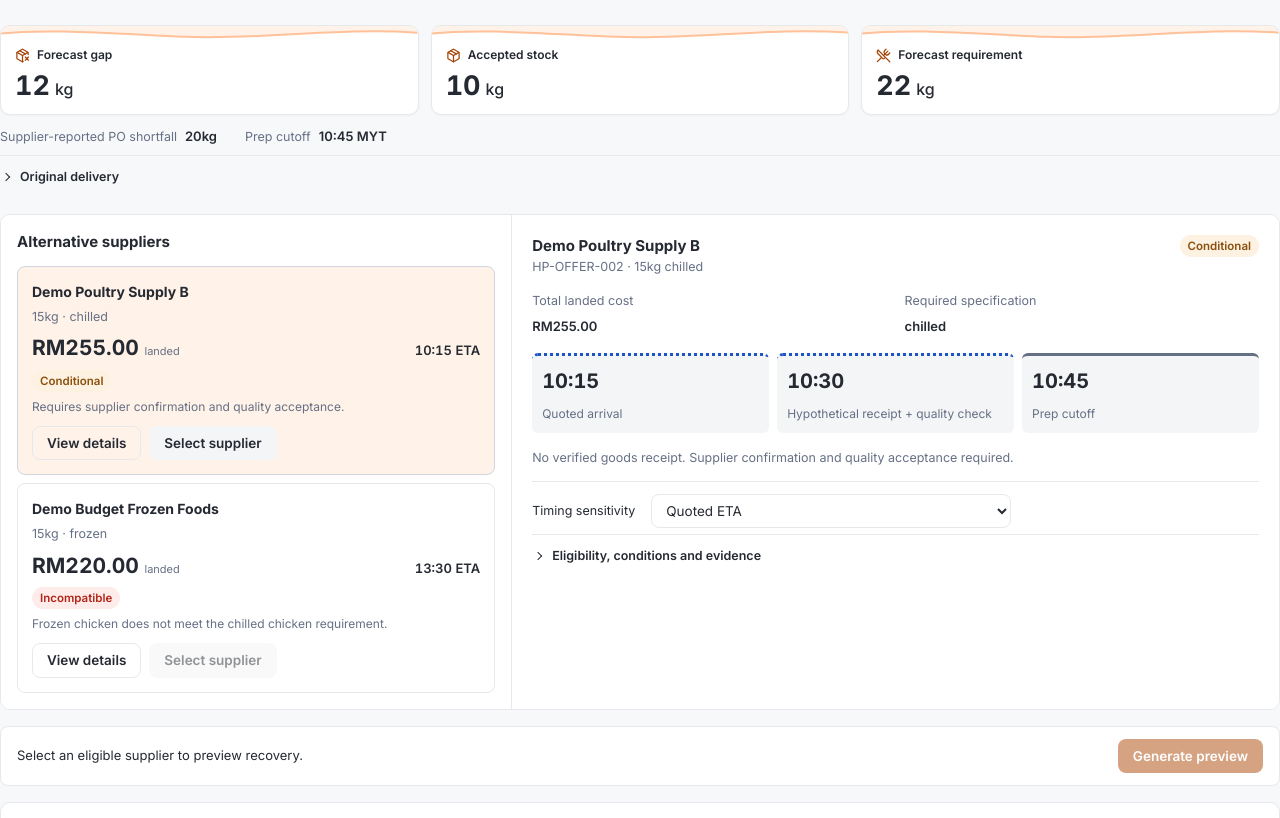
Scenario: generates the canonical conditional preview with exact costs and portion labels
Click the button with aria-label "Select HP-OFFER-002". click: [213, 443]
box: [149,426,277,460]
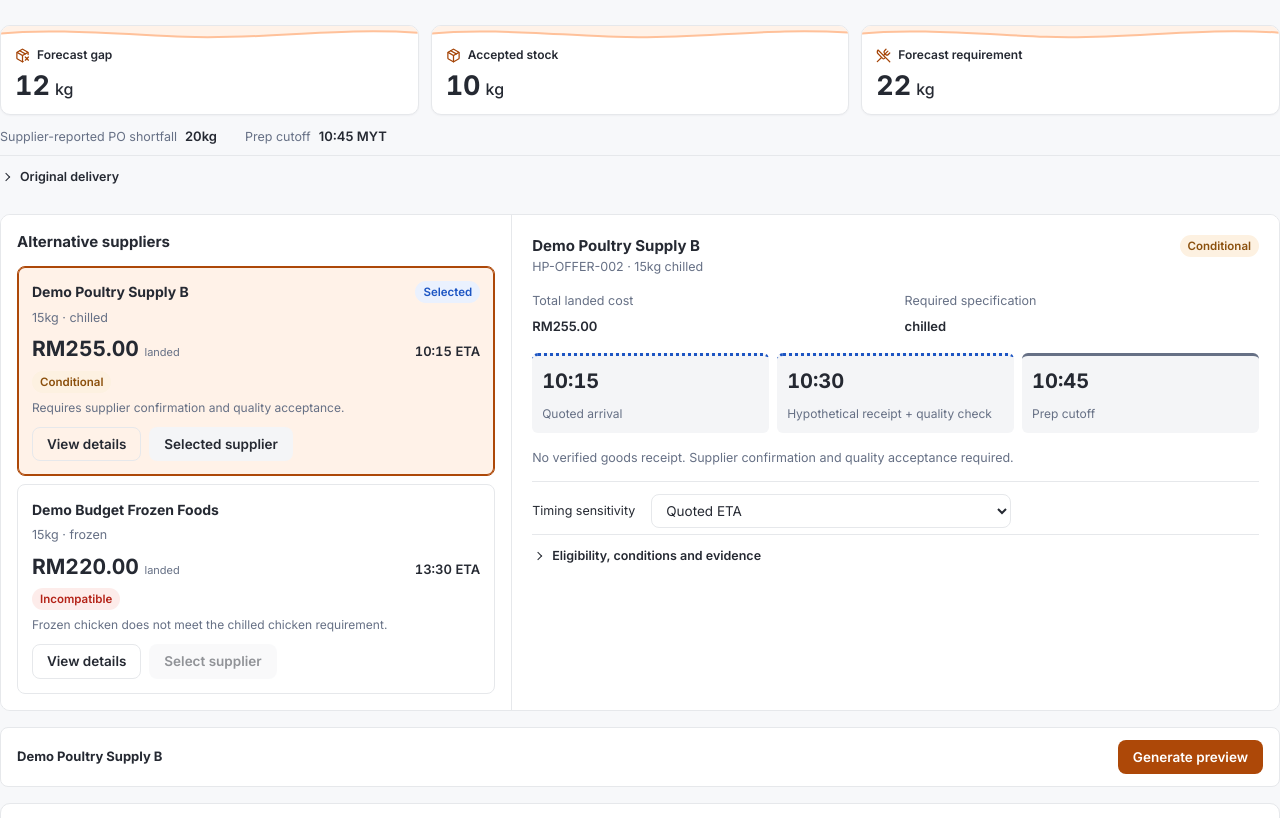
Click the button "Generate preview". click: [1190, 757]
box: [1118,740,1263,774]
(page scrolled)
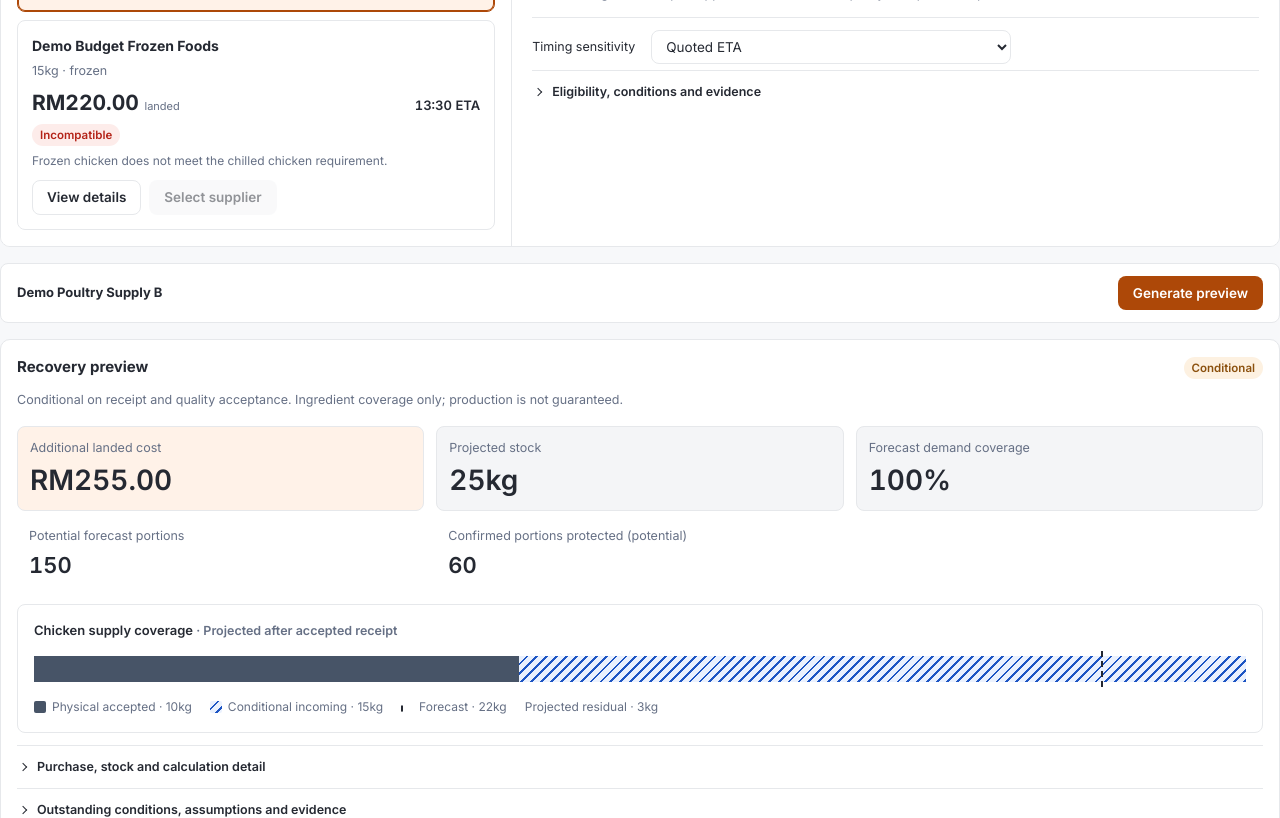
Result: the heading "Recovery preview" is shown at [17,356,148,379]
Result: the text "Ingredient coverage only" is shown at [17,392,623,407]
